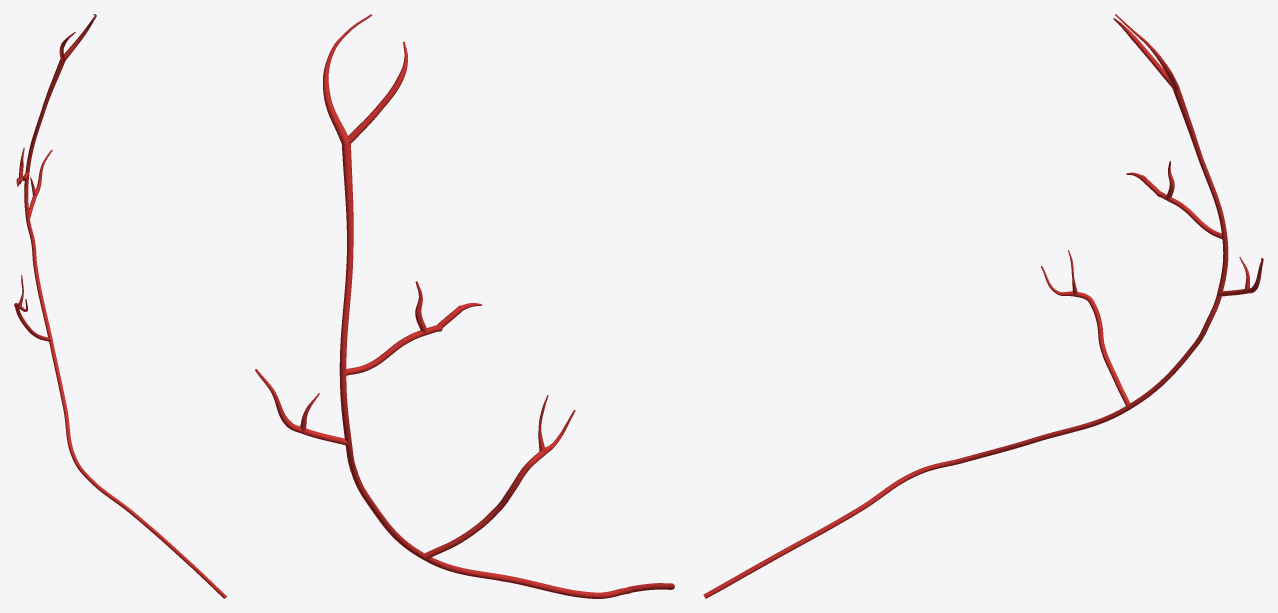
The model's file is circulatorio-occipital-artery-r.glb.
3 views of the same model, side by side, from view 1: azimuth 30°, elevation 25°; view 2: azimuth 150°, elevation 25°; view 3: azimuth 270°, elevation 25° (orthographic). The views are drawn at different scales.
Visible parts, largest first — view 1: Occipital artery.r; view 2: Occipital artery.r; view 3: Occipital artery.r.
Part boxes in pixels (box(x1,y1,x2,y2)): Occipital artery.r: box(14, 14, 226, 598); Occipital artery.r: box(255, 14, 674, 598); Occipital artery.r: box(703, 14, 1263, 598).
Bounding box in the file's own units: 0.0322 × 0.1269 × 0.107.
